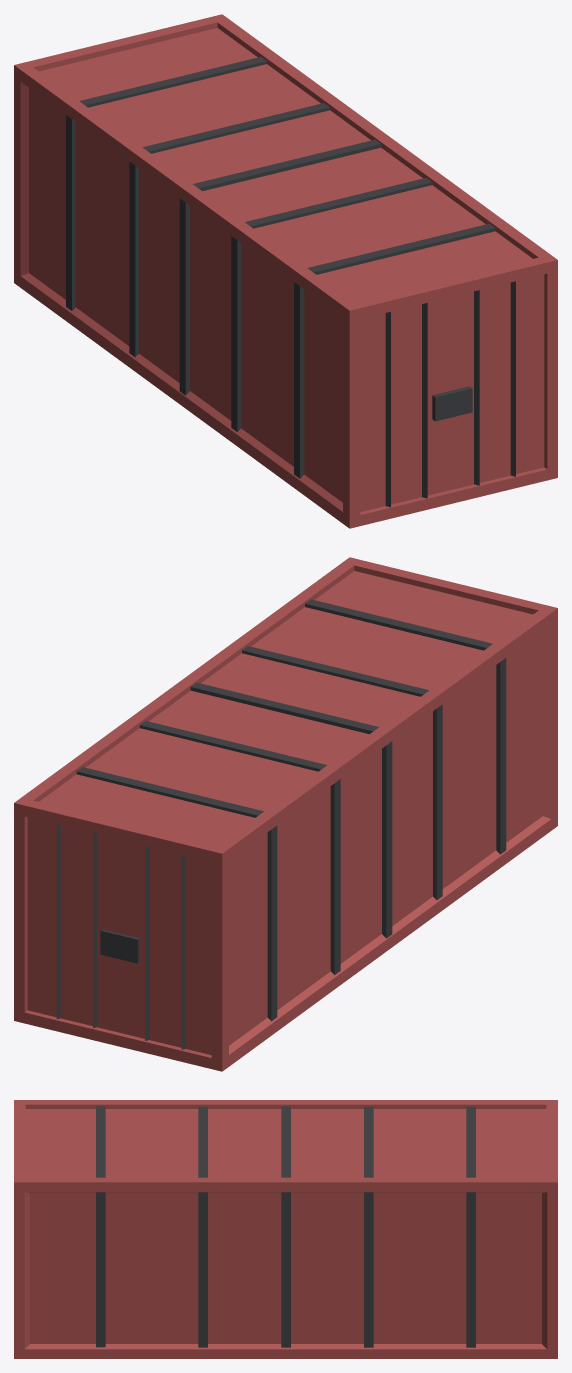
Rendered from lp_cargoContainer(Colour).fbx.
The picture shows the model from 3 angles, top to bottom: view 1: azimuth 30°, elevation 25°; view 2: azimuth 150°, elevation 25°; view 3: azimuth 270°, elevation 25°; orthographic projection. The views are drawn at different scales.
Visible parts, largest first — view 1: Cube, Cube.015, Cube.011, Cube.014, Cube.013, Cube.012, Cube.016, Cube.020, Cube.017, Cube.019, Cube.018, Cylinder.003 (+4 smaller); view 2: Cube, Cube.015, Cube.011, Cube.012, Cube.013, Cube.014, Cube.016, Cube.020, Cube.018, Cube.019, Cube.017, Cube.022 (+4 smaller); view 3: Cube, Cube.005, Cube.004, Cube.003, Cube.002, Cube.001, Cube.020, Cube.019, Cube.018, Cube.017, Cube.016.
Part boxes in pixels (bbox=[...]): Cube: bbox=[14, 14, 557, 528]; Cube.015: bbox=[179, 198, 189, 395]; Cube.011: bbox=[294, 282, 304, 478]; Cube.014: bbox=[231, 236, 241, 431]; Cube.013: bbox=[129, 161, 138, 356]; Cube.012: bbox=[66, 115, 75, 310]; Cube.016: bbox=[193, 139, 381, 191]; Cube.020: bbox=[307, 223, 495, 274]; Cube.017: bbox=[245, 178, 432, 228]; Cube.019: bbox=[79, 57, 266, 107]; Cube.018: bbox=[143, 103, 329, 153]; Cylinder.003: bbox=[422, 303, 427, 498]; Cube: bbox=[14, 557, 557, 1071]; Cube.015: bbox=[382, 741, 392, 938]; Cube.011: bbox=[496, 658, 506, 854]; Cube.012: bbox=[267, 825, 277, 1021]; Cube.013: bbox=[330, 779, 340, 974]; Cube.014: bbox=[433, 704, 442, 899]; Cube.016: bbox=[190, 682, 378, 734]; Cube.020: bbox=[305, 599, 492, 650]; Cube.018: bbox=[139, 721, 326, 771]; Cube.019: bbox=[76, 767, 263, 817]; Cube.017: bbox=[242, 646, 428, 696]; Cube.022: bbox=[100, 929, 139, 963]; Cube: bbox=[14, 1100, 557, 1358]; Cube.005: bbox=[281, 1192, 290, 1347]; Cube.004: bbox=[198, 1192, 207, 1347]; Cube.003: bbox=[364, 1192, 373, 1347]; Cube.002: bbox=[466, 1192, 475, 1347]; Cube.001: bbox=[96, 1192, 105, 1347]; Cube.020: bbox=[96, 1106, 105, 1177]; Cube.019: bbox=[466, 1106, 475, 1177]; Cube.018: bbox=[364, 1106, 373, 1177]; Cube.017: bbox=[198, 1106, 207, 1177]; Cube.016: bbox=[281, 1106, 290, 1177].
Size of the model in its own units: 388 by 388 by 1083.
